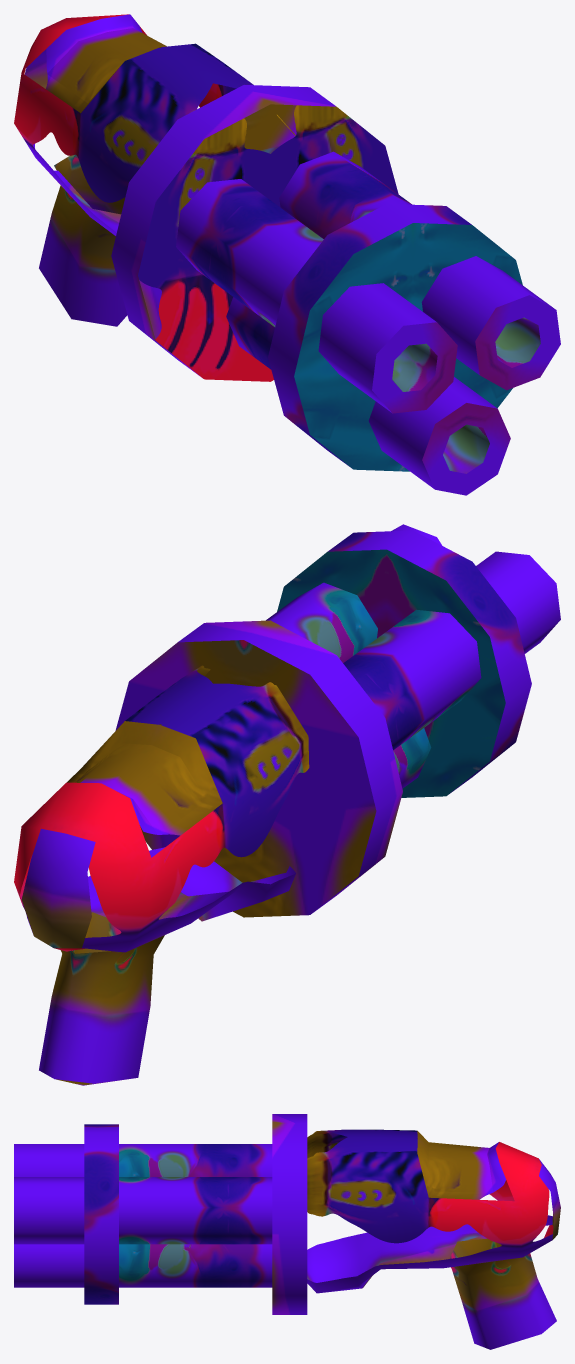
Rendered from weapon_mg.fbx.
3 views of the same model, one above another, from view 1: azimuth 30°, elevation 25°; view 2: azimuth 150°, elevation 25°; view 3: azimuth 270°, elevation 25° (orthographic). The views are drawn at different scales.
Parts seen in each view (by area): view 1: mg_barrels, mg; view 2: mg, mg_barrels; view 3: mg, mg_barrels.
Boxes of the visible parts, x1,y1,x2,y2 form: mg_barrels: (176,151,560,495); mg: (14,14,398,381); mg: (14,620,402,1085); mg_barrels: (266,524,560,797); mg: (272,1114,560,1349); mg_barrels: (14,1124,272,1304).
Bounding box in the file's own units: 17.88 × 21.56 × 48.46.
